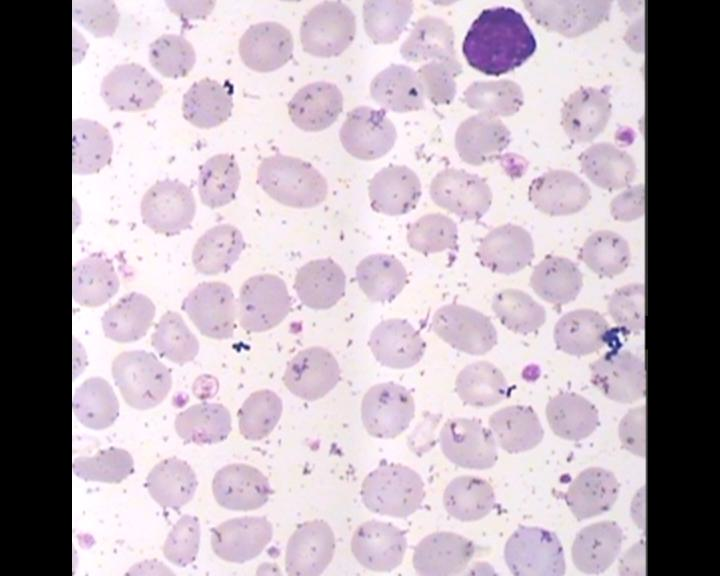baso: (455, 4, 542, 78)
